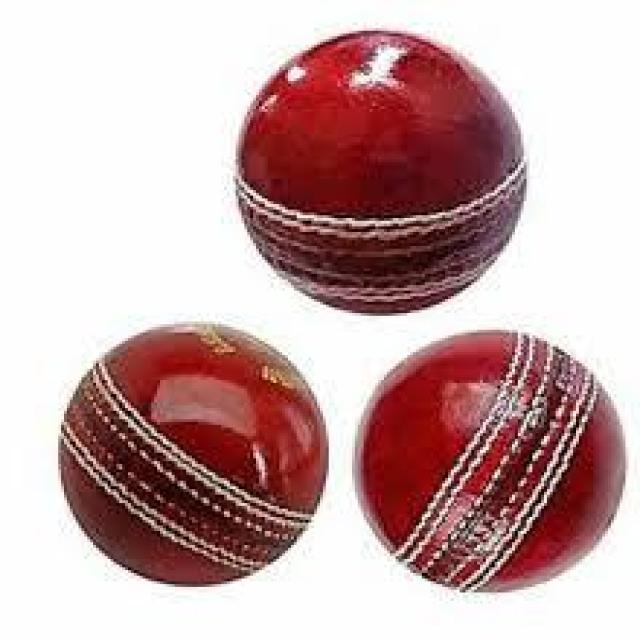ball: (236, 31, 526, 316), (349, 333, 623, 595), (58, 324, 326, 587)
